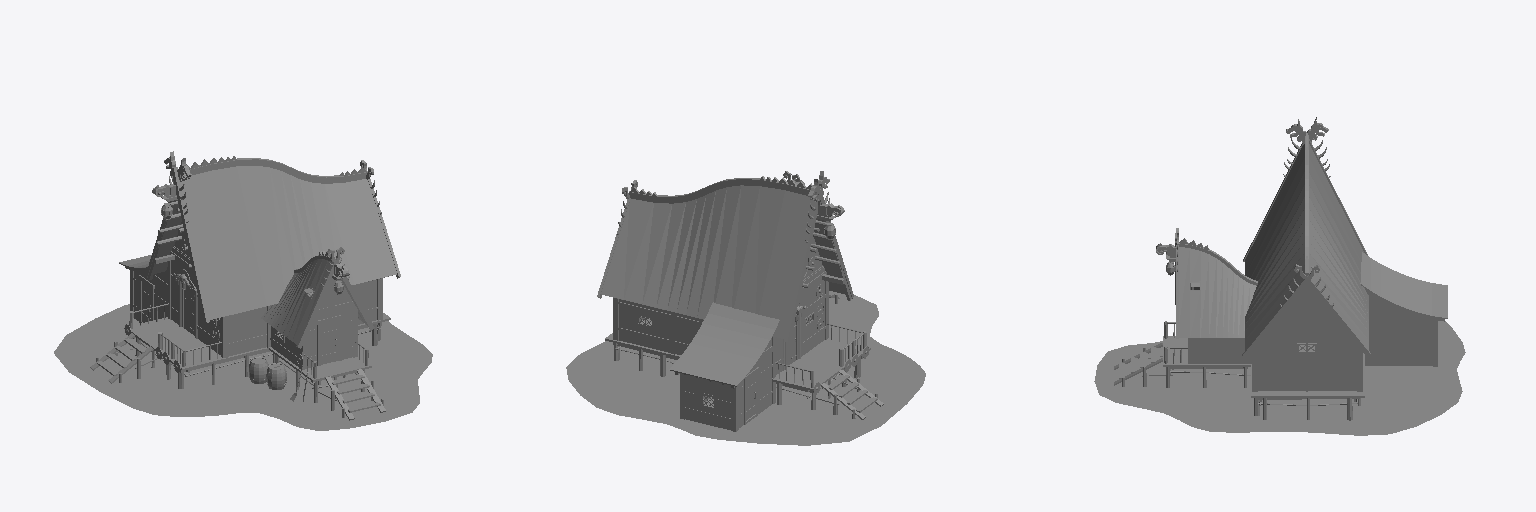
Rendered from Casa_Vikingos.obj.
3 renders of one model, left to right at view 1: azimuth 30°, elevation 25°; view 2: azimuth 150°, elevation 25°; view 3: azimuth 270°, elevation 25°, orthographic.
Parts seen in each view (by area): view 1: house_04_Mesh; view 2: house_04_Mesh; view 3: house_04_Mesh.
Boxes of the visible parts, <box> form: house_04_Mesh: <box>54,151,432,430</box>; house_04_Mesh: <box>566,171,925,445</box>; house_04_Mesh: <box>1094,117,1465,435</box>.
Size of the model in its own units: 12.74 by 8.66 by 13.65.